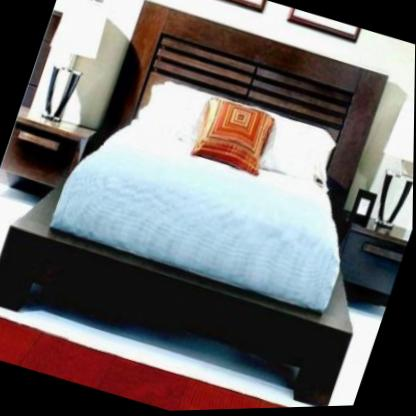Bed: (0, 3, 388, 408)
